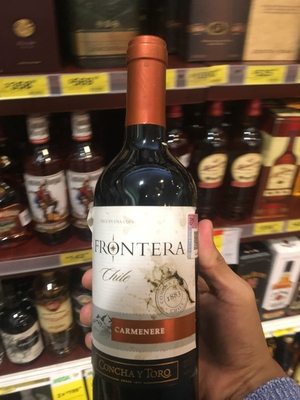frontera carmenere: (90, 44, 215, 400)
